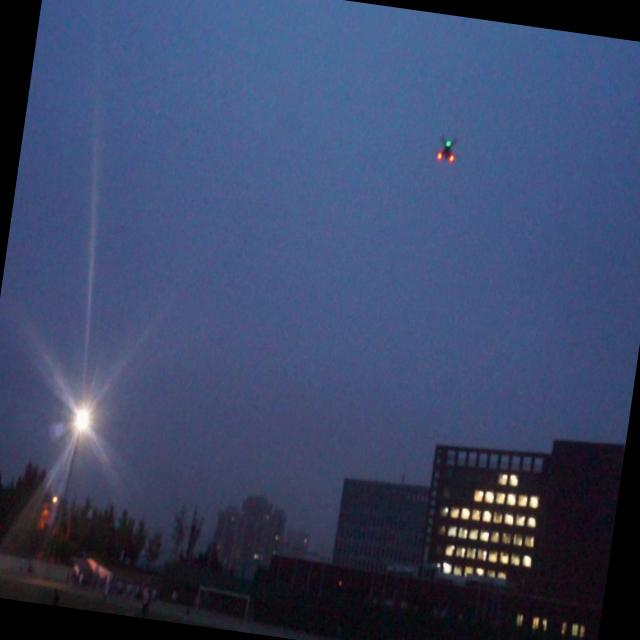drone: (434, 129, 458, 168)
